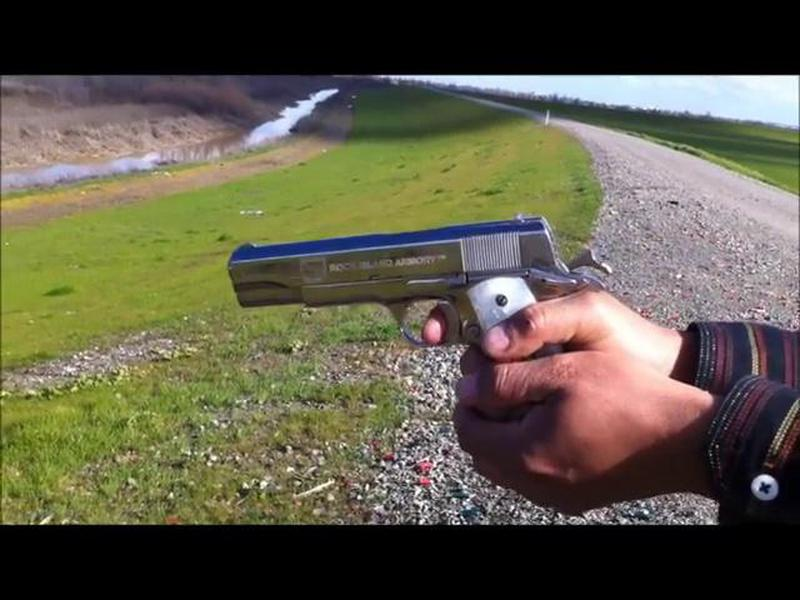Pistola: (244, 214, 592, 381)
